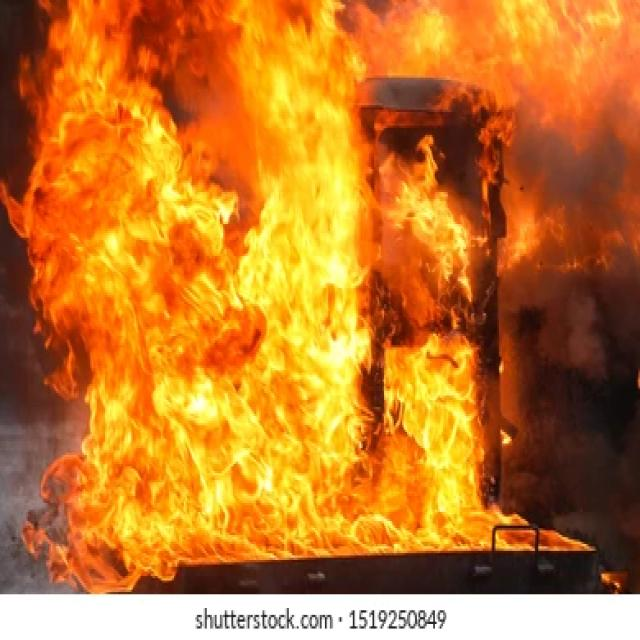fire: (31, 0, 518, 539)
